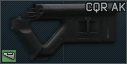AKM%5AK-74 Hera Arms CQR pistol grip%5buttstock: (0, 0, 127, 64)
